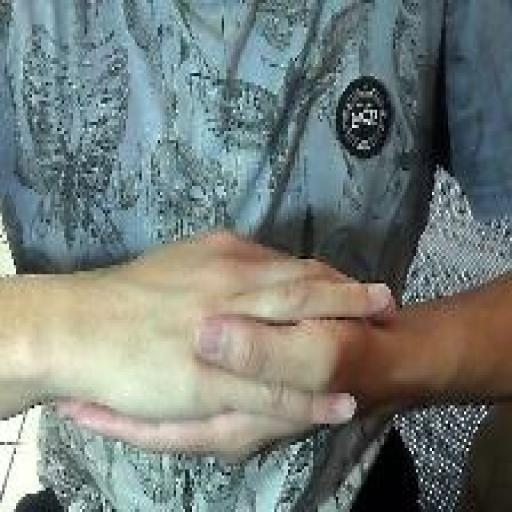Saru -monkey-: (48, 221, 400, 477)
